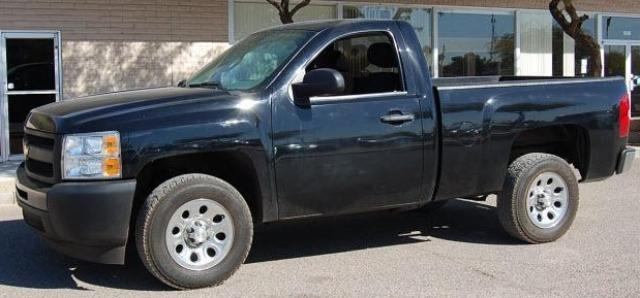pickup-truck: (14, 18, 637, 291)
